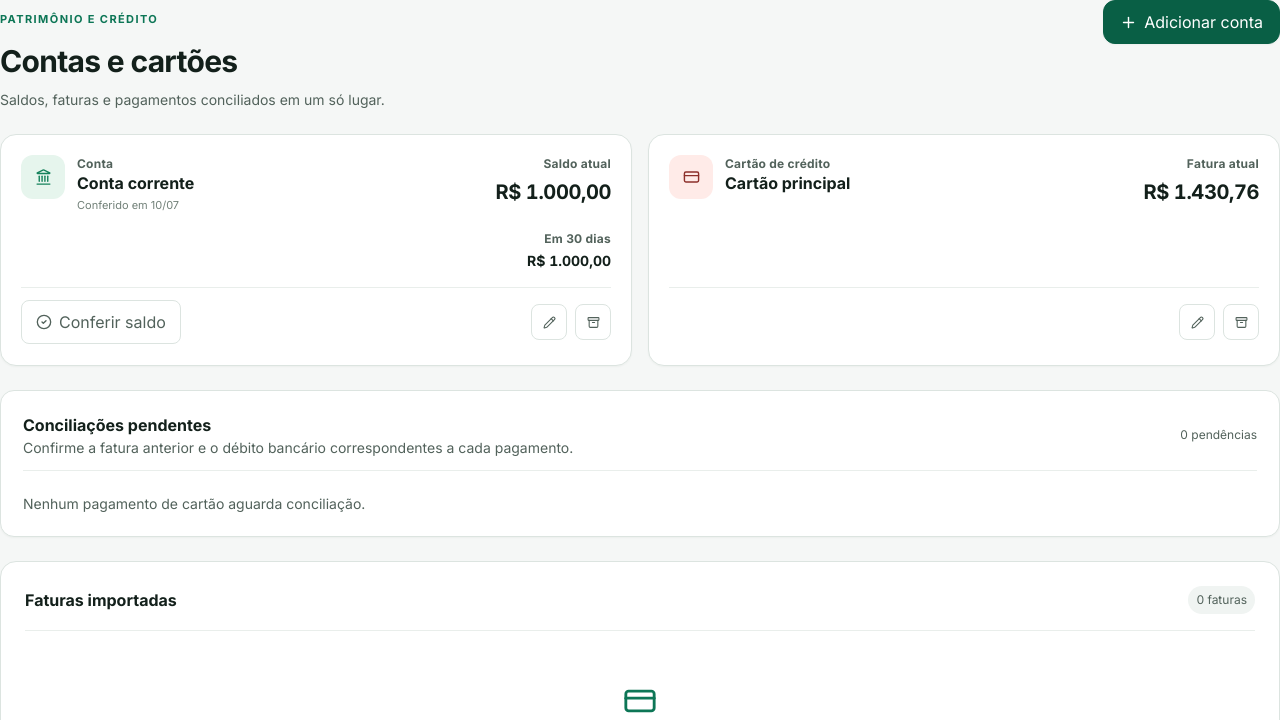
Test: AccountsCards balance reconciliation › expõe diferença não zero sem oferecer criação de ajuste
Click the button with aria-label "Conferir saldo de Conta corrente".
click(101, 322)  # box top-left (21, 300), bottom-right (181, 344)
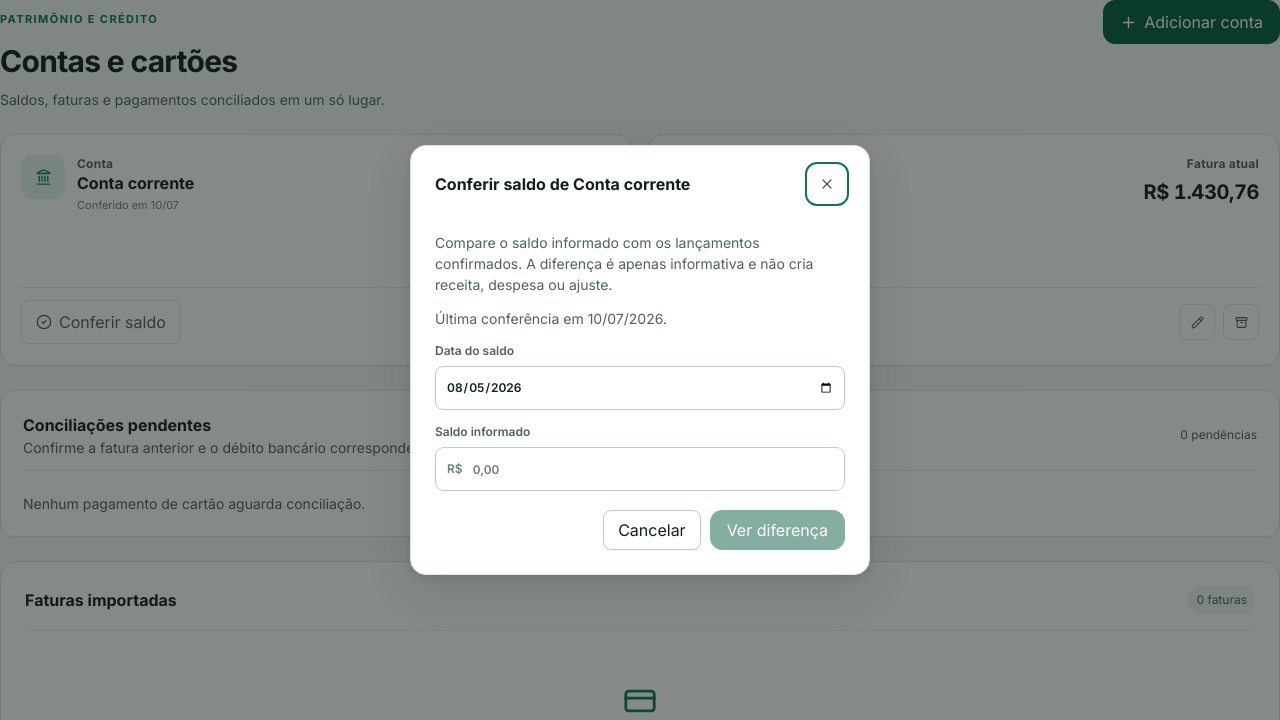
Type "2026-07-10" into the date field labelled "Data do saldo".
click(640, 388); type("2026-07-10")  # box top-left (435, 366), bottom-right (845, 410)
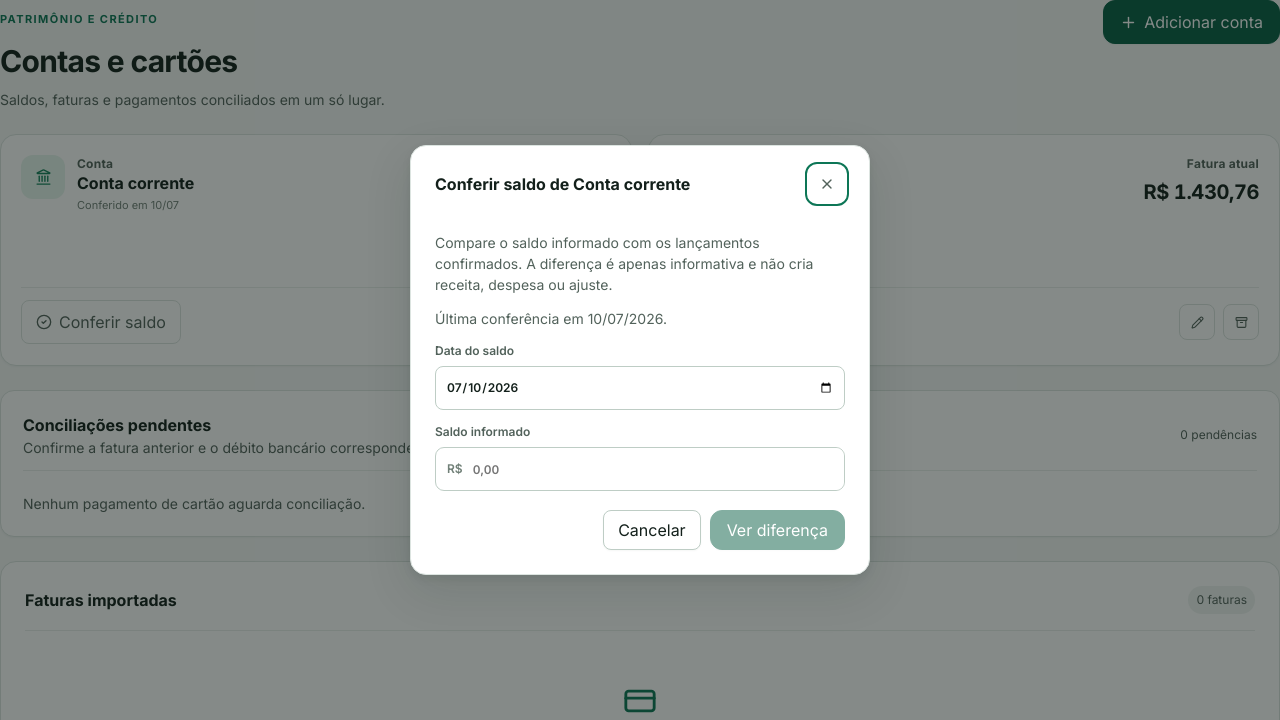
Type "1000,00" into the field labelled "Saldo informado".
click(653, 469); type("1000,00")  # box top-left (463, 448), bottom-right (844, 490)
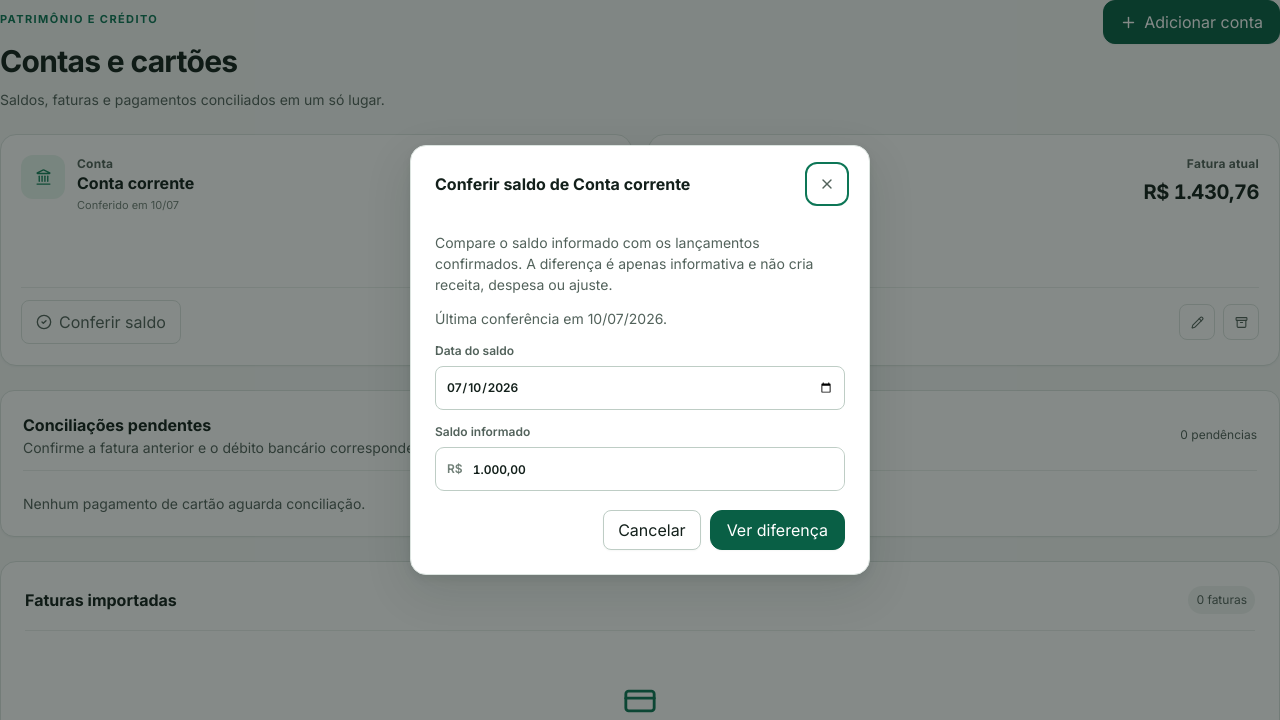
Click the button "Ver diferença".
click(777, 530)  # box top-left (710, 510), bottom-right (845, 550)
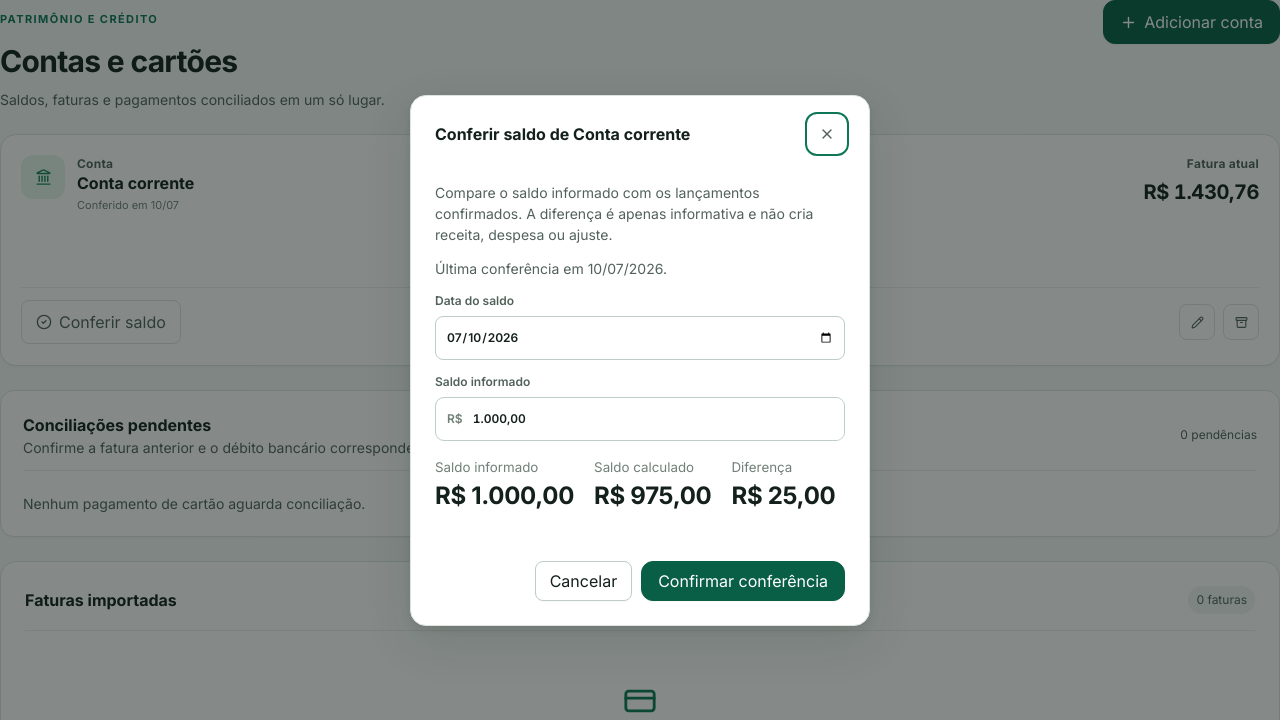
Expected: the text "Conferido em 10/07" is shown, top-left (77, 198), bottom-right (179, 212)
Expected: the text "A diferença é apenas informativa e não cria receita, despesa ou ajuste" is shown, top-left (435, 184), bottom-right (814, 242)
Expected: the element named "Prévia da conferência" shows "R$ 25,00", top-left (732, 480), bottom-right (836, 510)
